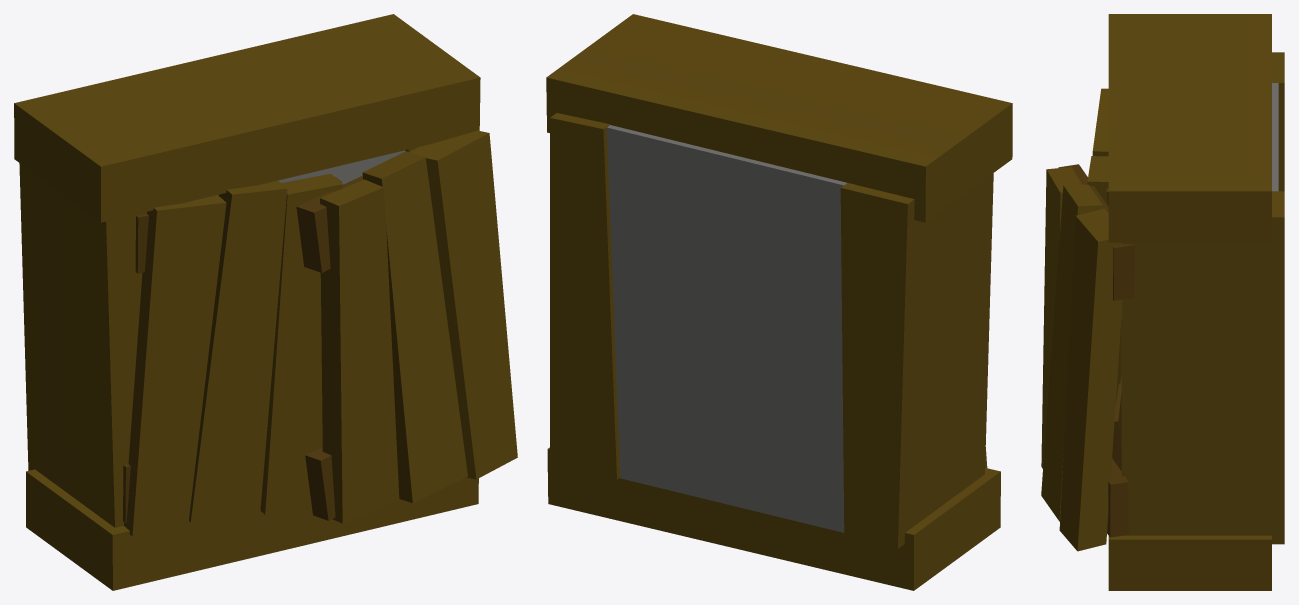
File: SM_ClosedWindow_LOD0.fbx
The picture shows the model from 3 angles, left to right: view 1: azimuth 30°, elevation 25°; view 2: azimuth 150°, elevation 25°; view 3: azimuth 270°, elevation 25°; orthographic projection. The views are drawn at different scales.
Visible parts, largest first — view 1: SM_ClosedWindow_LOD0; view 2: SM_ClosedWindow_LOD0; view 3: SM_ClosedWindow_LOD0.
Boxes of the visible parts, x1,y1,x2,y2 form: SM_ClosedWindow_LOD0: [14, 14, 517, 590]; SM_ClosedWindow_LOD0: [546, 14, 1012, 590]; SM_ClosedWindow_LOD0: [1041, 14, 1284, 590].
Size of the model in its own units: 2.39 by 2.45 by 1.34.
